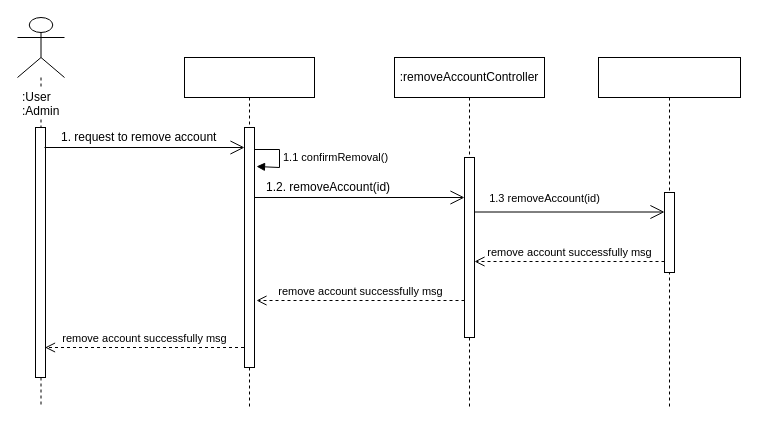
The diagram is 758 pixels wide and 425 high, and some of its shapes have lost their labels. Here are the shapes that lost their labels. From the top down, the box of each, then its label:
(184, 56, 314, 408): :removeAccountForm
(598, 56, 740, 408): :IAccountDatabase
